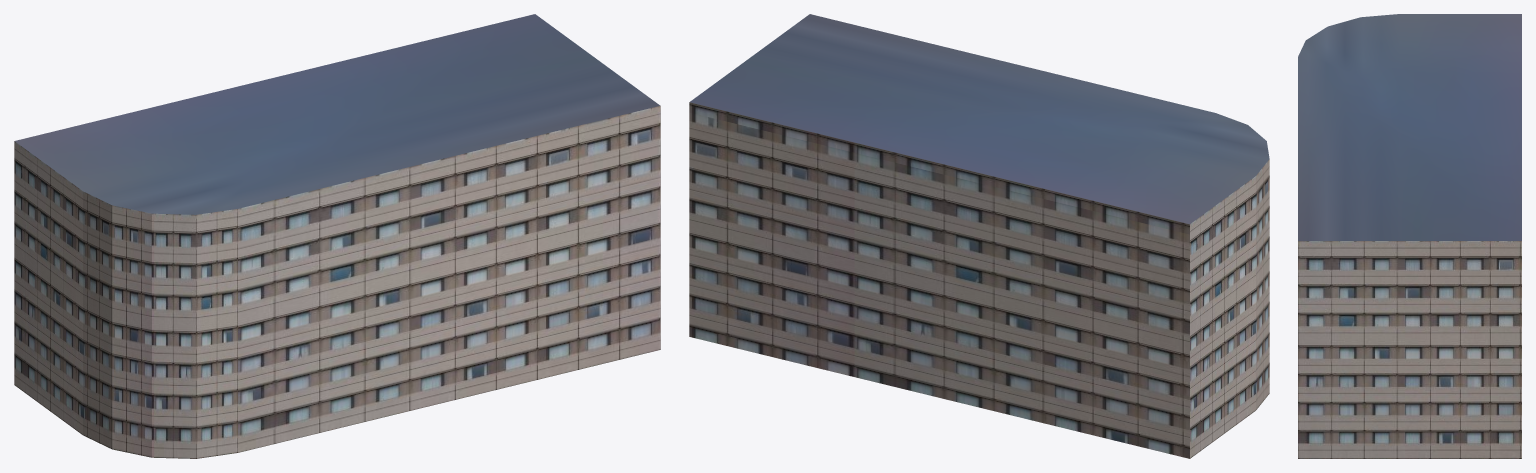
Rendered from Building1.fbx.
The picture shows the model from 3 angles, left to right: view 1: azimuth 30°, elevation 25°; view 2: azimuth 150°, elevation 25°; view 3: azimuth 270°, elevation 25°; orthographic projection. The views are drawn at different scales.
Parts seen in each view (by area): view 1: Cube.006; view 2: Cube.006; view 3: Cube.006.
Part boxes in pixels (x1,y1,x2,y2): Cube.006: (14, 14, 660, 458); Cube.006: (689, 14, 1269, 458); Cube.006: (1298, 14, 1521, 458).
Bounding box in the file's own units: 2819 × 1263 × 1176.
1 material, 1 textured.
